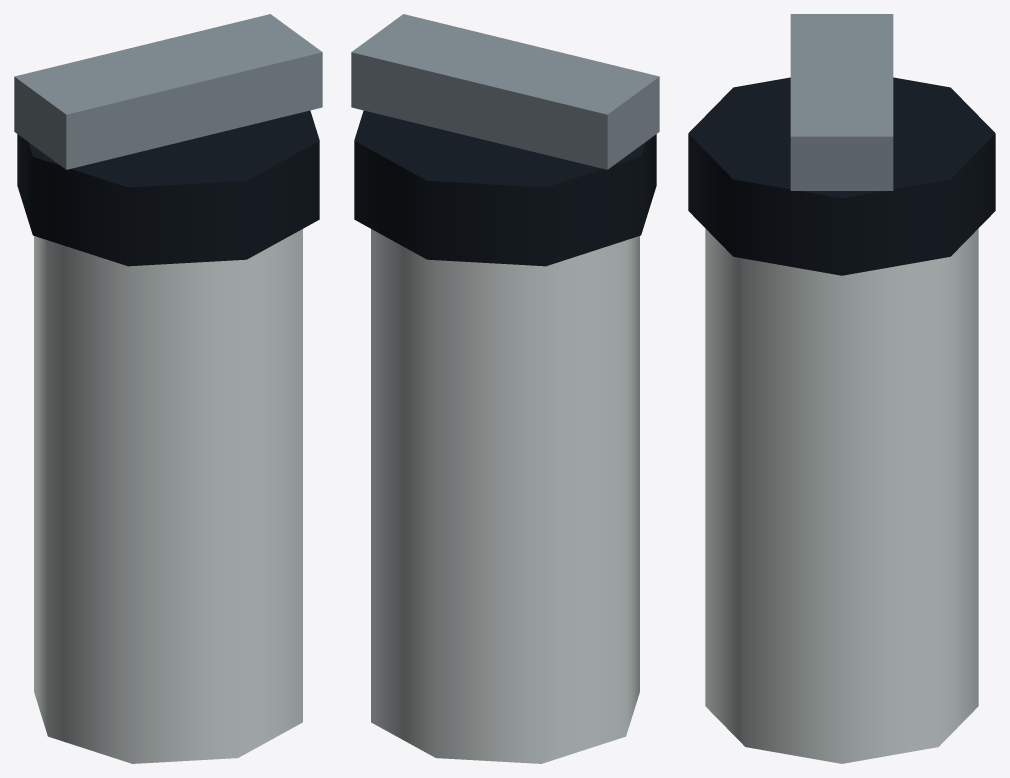
The model's file is np_z06_antidote.glb.
3 renders of one model, left to right at view 1: azimuth 30°, elevation 25°; view 2: azimuth 150°, elevation 25°; view 3: azimuth 270°, elevation 25°, orthographic.
Parts seen in each view (by area): view 1: Contenant, Bouchon, Poignee; view 2: Contenant, Bouchon, Poignee; view 3: Contenant, Bouchon, Poignee.
Part boxes in pixels (x1,y1,x2,y2): Contenant: (34, 229, 302, 763); Bouchon: (17, 110, 319, 266); Poignee: (14, 14, 322, 169); Contenant: (371, 229, 639, 763); Bouchon: (354, 110, 656, 266); Poignee: (351, 14, 659, 169); Contenant: (705, 228, 978, 763); Bouchon: (688, 77, 995, 275); Poignee: (790, 14, 893, 190).
Size of the model in its own units: 0.36 by 0.815 by 0.36.
